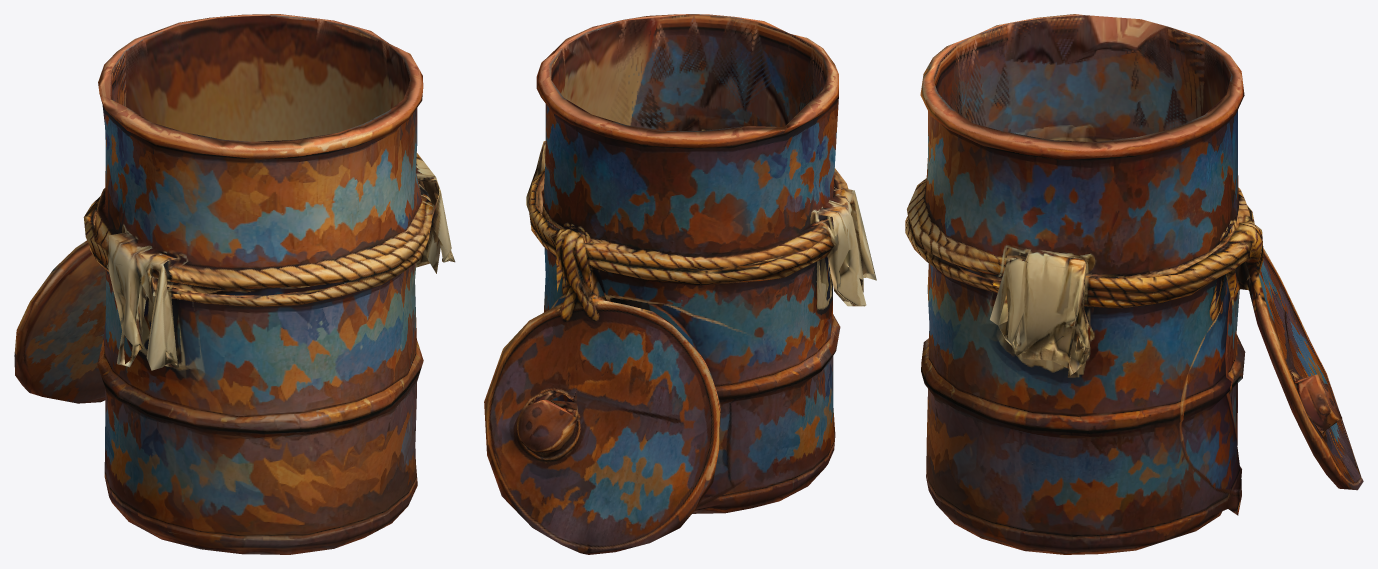
File: Loot_OilDrum_Open.fbx
3 views of the same model, side by side, from view 1: azimuth 30°, elevation 25°; view 2: azimuth 150°, elevation 25°; view 3: azimuth 270°, elevation 25° (orthographic). The views are drawn at different scales.
Visible parts, largest first — view 1: texture_mapping; view 2: texture_mapping; view 3: texture_mapping.
Part boxes in pixels (bbox=[...]): texture_mapping: bbox=[14, 14, 455, 554]; texture_mapping: bbox=[484, 14, 876, 554]; texture_mapping: bbox=[905, 14, 1363, 554].
Size of the model in its own units: 0.858 by 1 by 1.
1 material, 1 textured.
